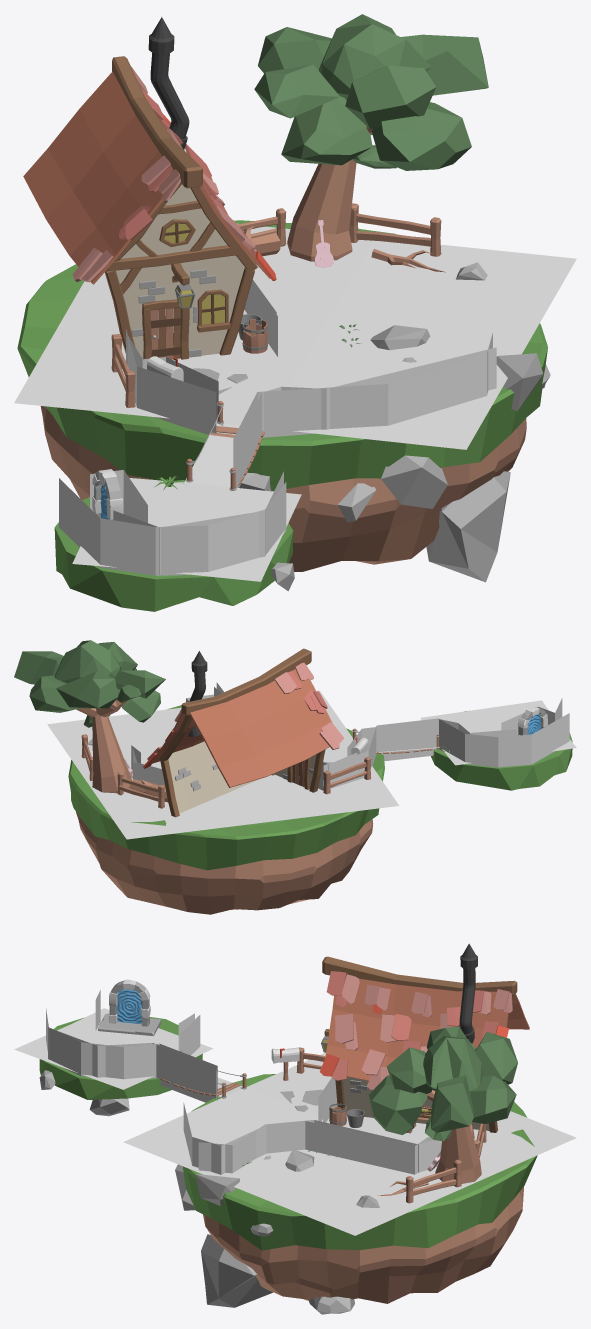
The model's file is worldReady-WWYsQrvJ.glb.
3 renders of one model, top to bottom at view 1: azimuth 30°, elevation 25°; view 2: azimuth 150°, elevation 25°; view 3: azimuth 270°, elevation 25°, orthographic. The views are drawn at different scales.
Visible parts, largest first — view 1: islandAndHouse, floor, tree, transparentWall, rocks, invisiblewall, floatingPlatform, fence1, portal, fence2, bridge, Barrel Broken; view 2: islandAndHouse, floor, tree, transparentWall, invisiblewall, floatingPlatform, fence3, fence2, portal; view 3: islandAndHouse, floor, tree, transparentWall, rocks, invisiblewall, floatingPlatform, portal, fence1, mailbox.
Boxes of the visible parts, left/top/right/bottom form: islandAndHouse: left=17, top=17, right=547, bottom=571; floor: left=14, top=223, right=576, bottom=581; tree: left=254, top=14, right=488, bottom=261; transparentWall: left=59, top=279, right=492, bottom=575; rocks: left=239, top=262, right=550, bottom=591; invisiblewall: left=90, top=280, right=496, bottom=574; floatingPlatform: left=54, top=480, right=293, bottom=611; fence1: left=349, top=203, right=441, bottom=256; portal: left=92, top=469, right=123, bottom=519; fence2: left=111, top=334, right=135, bottom=407; bridge: left=186, top=401, right=264, bottom=490; Barrel Broken: left=242, top=319, right=267, bottom=353; islandAndHouse: left=68, top=648, right=384, bottom=914; floor: left=47, top=690, right=576, bottom=839; tree: left=14, top=640, right=165, bottom=793; transparentWall: left=131, top=682, right=569, bottom=790; invisiblewall: left=132, top=687, right=562, bottom=788; floatingPlatform: left=431, top=711, right=572, bottom=790; fence3: left=117, top=771, right=164, bottom=808; fence2: left=323, top=756, right=371, bottom=794; portal: left=518, top=706, right=547, bottom=735; islandAndHouse: left=182, top=943, right=537, bottom=1303; floor: left=14, top=1008, right=576, bottom=1235; tree: left=368, top=1026, right=517, bottom=1183; transparentWall: left=46, top=1008, right=432, bottom=1174; rocks: left=39, top=1070, right=379, bottom=1314; invisiblewall: left=48, top=990, right=441, bottom=1173; floatingPlatform: left=39, top=1017, right=202, bottom=1099; portal: left=98, top=979, right=161, bottom=1035; fence1: left=406, top=1159, right=461, bottom=1203; mailbox: left=271, top=1047, right=299, bottom=1080.
Size of the model in its own units: 11.34 by 7.24 by 11.68.
